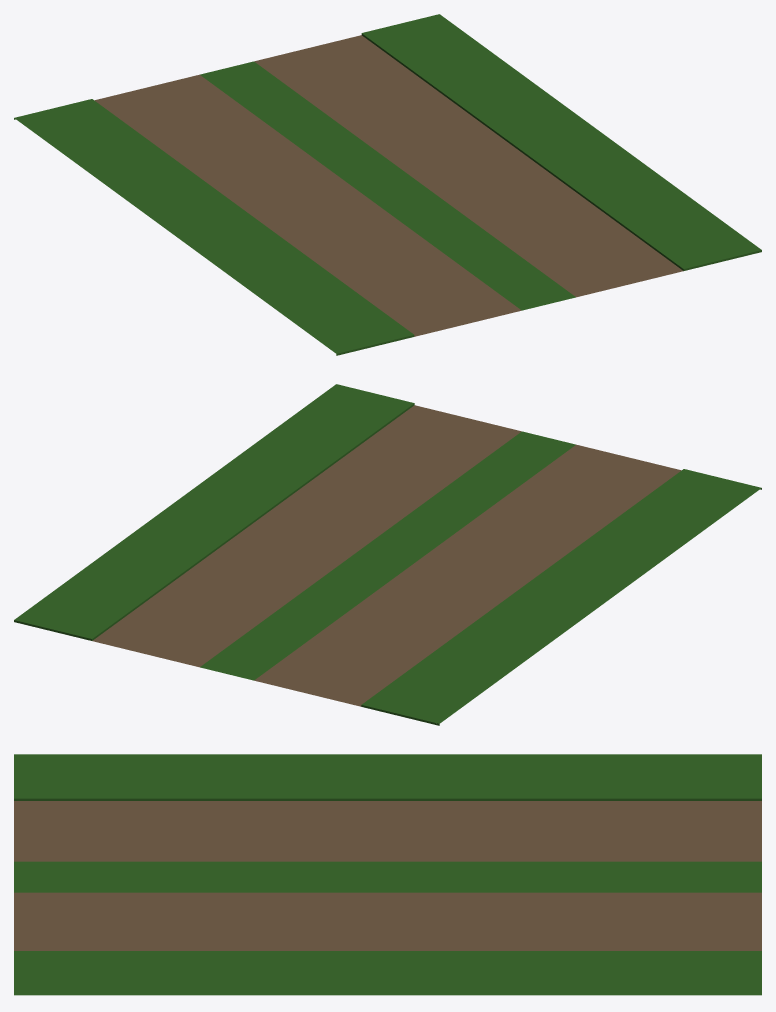
Rendered from Chão4.fbx.
3 views of the same model, one above another, from view 1: azimuth 30°, elevation 25°; view 2: azimuth 150°, elevation 25°; view 3: azimuth 270°, elevation 25° (orthographic). The views are drawn at different scales.
Visible parts, largest first — view 1: Fora.H; view 2: Fora.H; view 3: Fora.H.
Boxes of the visible parts, box(x1,y1,x2,y2) form: Fora.H: box(14, 14, 761, 355); Fora.H: box(14, 384, 761, 725); Fora.H: box(14, 754, 761, 995).
Size of the model in its own units: 1190 by 5.41 by 1561.
